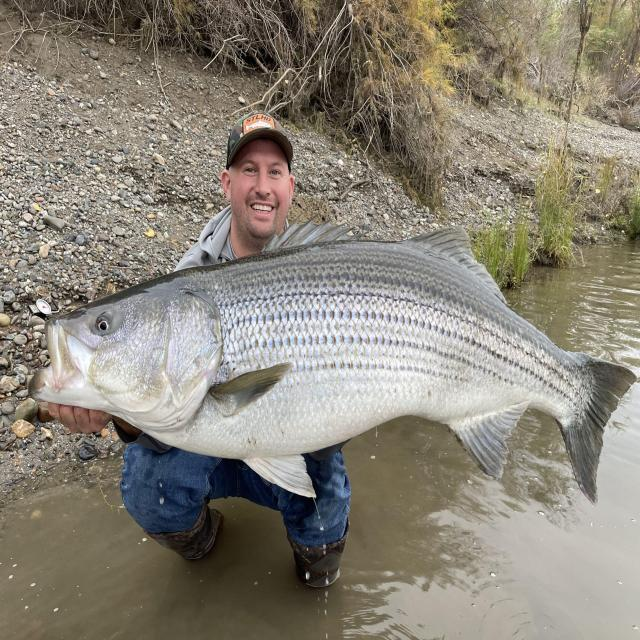Bass - Striped: (30, 224, 635, 502)
